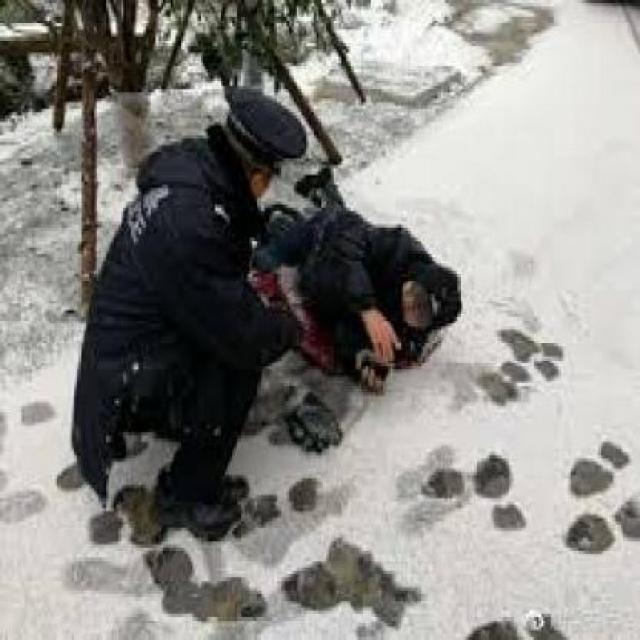fall: (242, 139, 470, 376)
